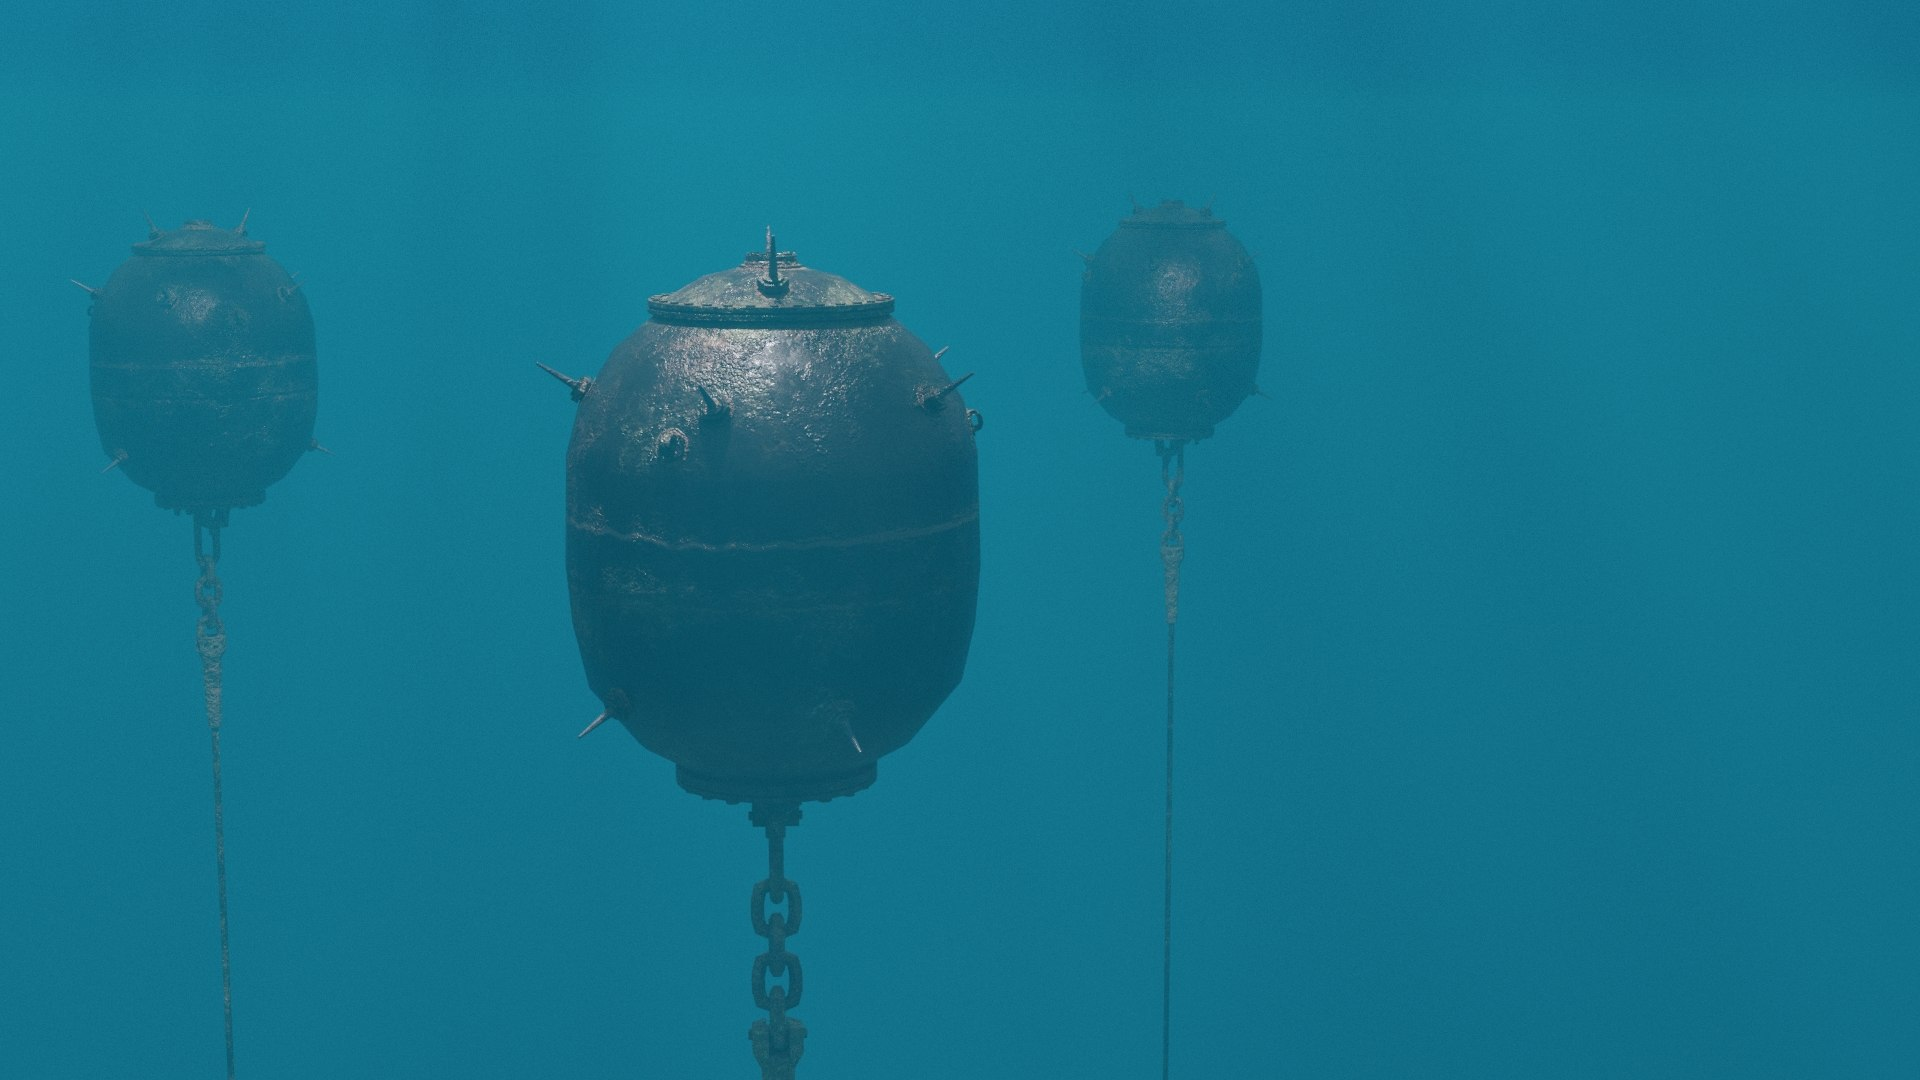Mines: (533, 215, 990, 804), (70, 204, 343, 538), (1075, 171, 1274, 455)
